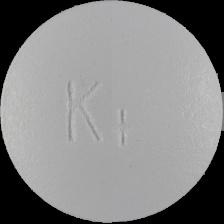66869-404: (0, 0, 224, 224)
